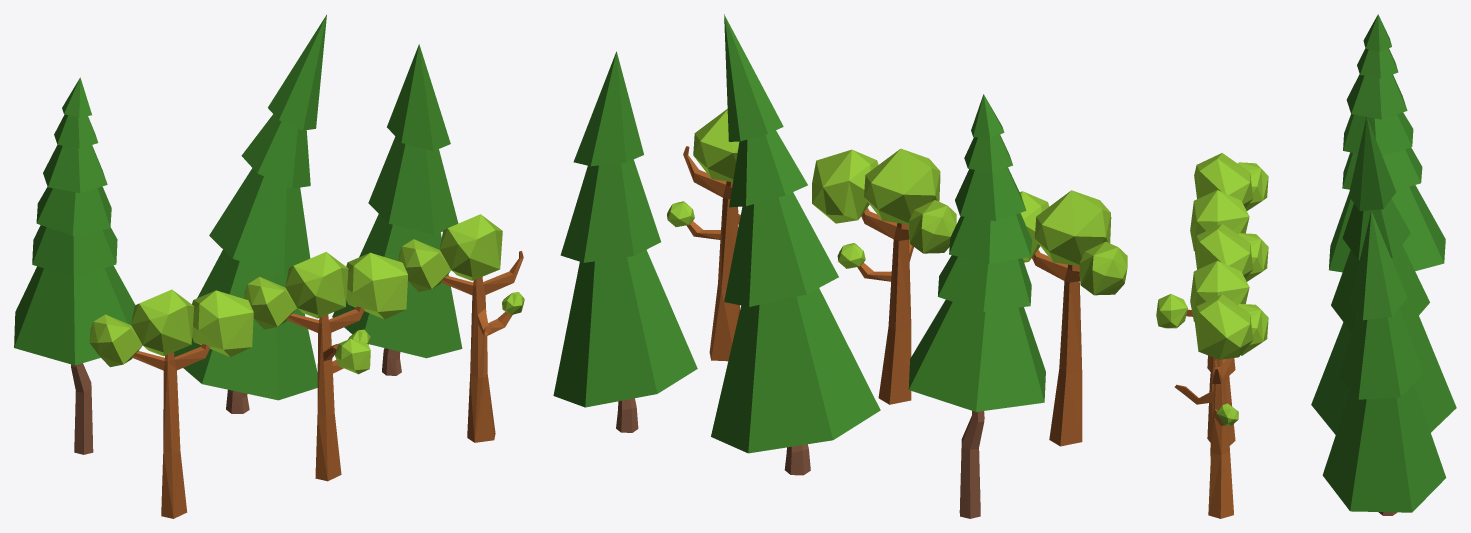
File: trees.glb
The picture shows the model from 3 angles, left to right: view 1: azimuth 30°, elevation 25°; view 2: azimuth 150°, elevation 25°; view 3: azimuth 270°, elevation 25°; orthographic projection. The views are drawn at different scales.
Visible parts, largest first — view 1: Pine_Tree_02, Pine_Tree_01, Pine_Tree_03, Tree_02, Tree_01, Tree_03; view 2: Pine_Tree_02, Pine_Tree_03, Pine_Tree_01, Tree_02, Tree_01, Tree_03; view 3: Pine_Tree_03, Pine_Tree_02, Pine_Tree_01, Tree_03, Tree_02, Tree_01.
Boxes of the visible parts, x1=… form: Pine_Tree_02: x1=174, y1=14, x2=326, y2=413; Pine_Tree_01: x1=14, y1=77, x2=135, y2=454; Pine_Tree_03: x1=332, y1=44, x2=462, y2=375; Tree_02: x1=244, y1=252, x2=407, y2=481; Tree_01: x1=89, y1=289, x2=253, y2=518; Tree_03: x1=398, y1=214, x2=524, y2=442; Pine_Tree_02: x1=711, y1=14, x2=880, y2=475; Pine_Tree_03: x1=553, y1=51, x2=697, y2=432; Pine_Tree_01: x1=908, y1=94, x2=1045, y2=518; Tree_02: x1=812, y1=148, x2=956, y2=404; Tree_01: x1=1019, y1=190, x2=1127, y2=446; Tree_03: x1=667, y1=109, x2=740, y2=361; Pine_Tree_03: x1=1322, y1=211, x2=1446, y2=515; Pine_Tree_02: x1=1311, y1=116, x2=1456, y2=434; Pine_Tree_01: x1=1329, y1=14, x2=1445, y2=272; Tree_03: x1=1174, y1=294, x2=1268, y2=518; Tree_02: x1=1156, y1=223, x2=1268, y2=445; Tree_01: x1=1190, y1=153, x2=1268, y2=375.
Bounding box in the file's own units: 6.68 × 5.73 × 4.29.
Materials: 2 (2 with a texture image).
